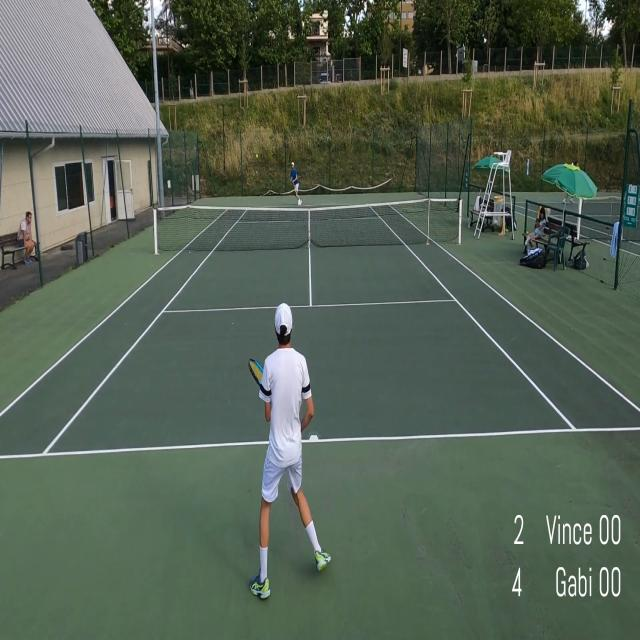ball: (256, 153, 258, 159)
